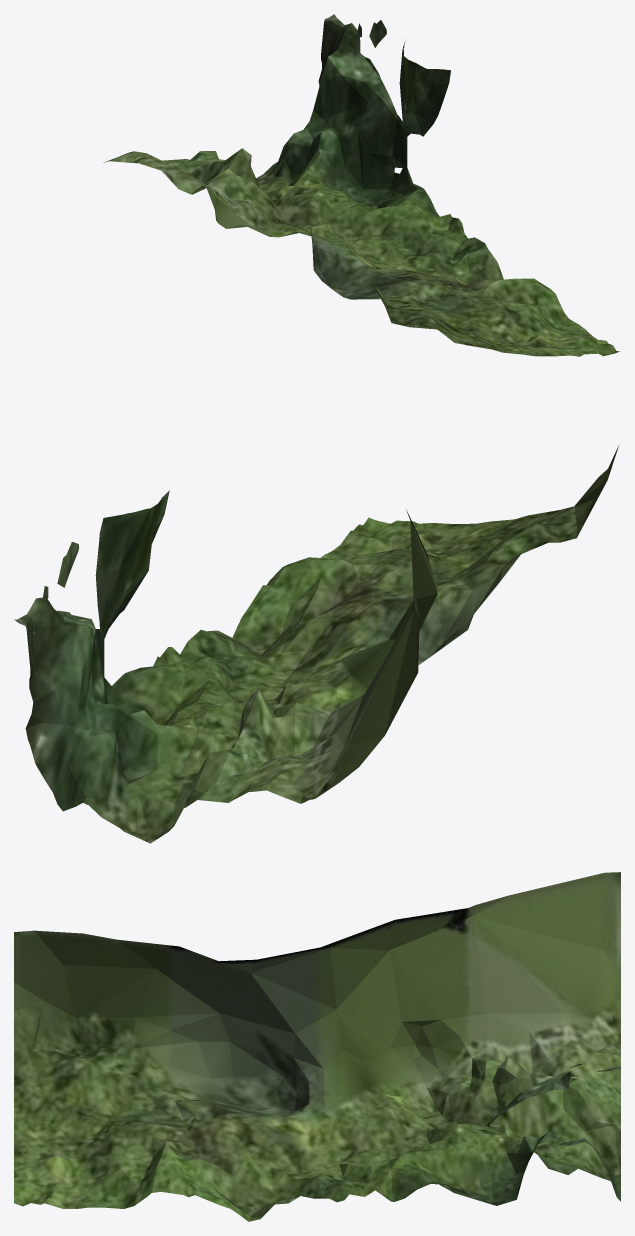
The picture shows the model from 3 angles, top to bottom: view 1: azimuth 30°, elevation 25°; view 2: azimuth 150°, elevation 25°; view 3: azimuth 270°, elevation 25°; orthographic projection. The views are drawn at different scales.
Bounding box in the file's own units: 7.61 × 4.17 × 11.8.
Materials: 2 (2 with a texture image).
